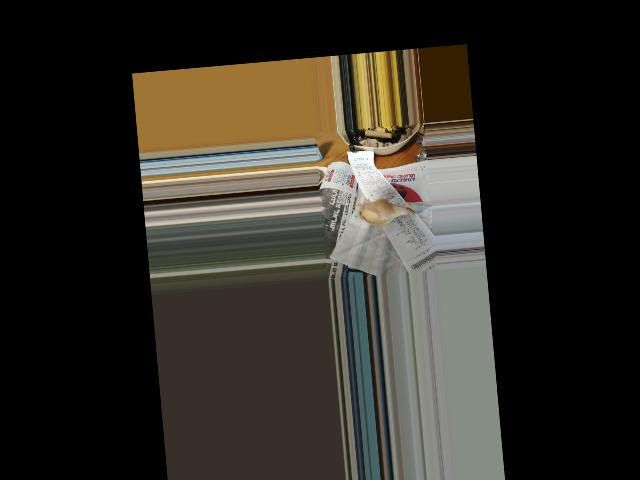onion: (359, 200, 396, 224)
